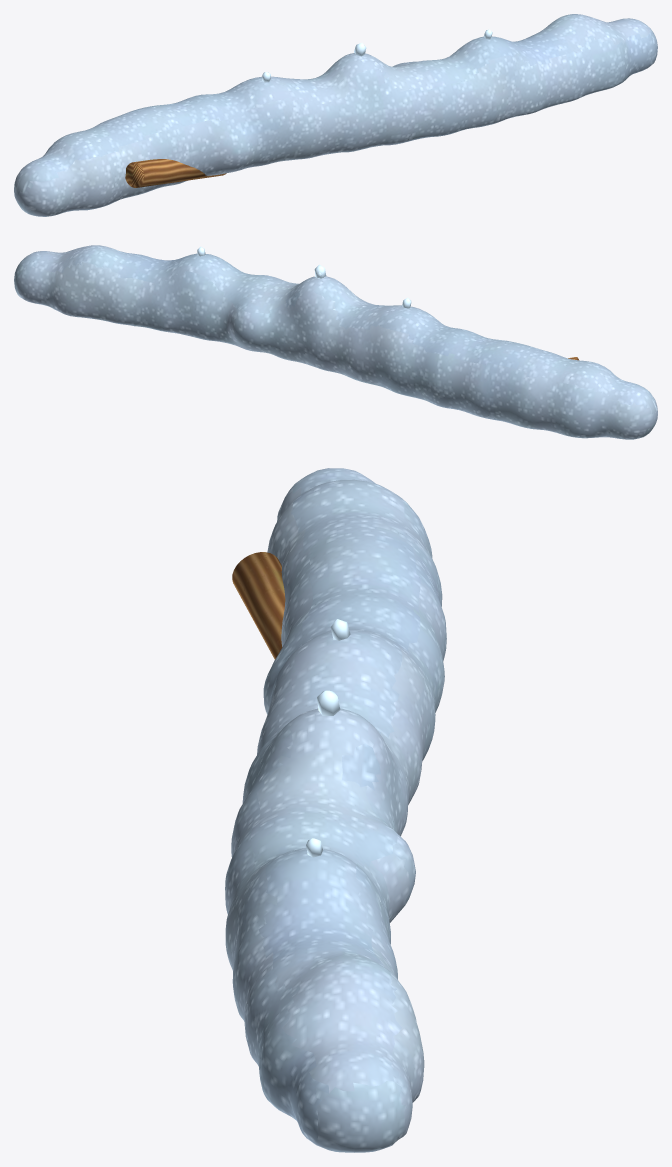
The model's file is hurdle-winter.glb.
3 renders of one model, top to bottom at view 1: azimuth 30°, elevation 25°; view 2: azimuth 150°, elevation 25°; view 3: azimuth 270°, elevation 25°, orthographic. The views are drawn at different scales.
Visible parts, largest first — view 1: SnowBank, SnowyLog; view 2: SnowBank; view 3: SnowBank, SnowyLog.
Boxes of the visible parts, left/top/right/bottom form: SnowBank: left=14, top=14, right=657, bottom=216; SnowyLog: left=125, top=159, right=226, bottom=187; SnowBank: left=14, top=245, right=657, bottom=439; SnowBank: left=225, top=468, right=446, bottom=1152; SnowyLog: left=232, top=552, right=285, bottom=659.
Bounding box in the file's own units: 5.11 × 0.7768 × 0.7771.
4 materials, 2 textured.
